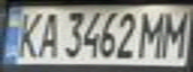2: (115, 8, 142, 60)
3: (60, 8, 84, 59)
4: (81, 8, 103, 59)
6: (100, 8, 124, 59)
A: (33, 9, 63, 60)
K: (12, 9, 45, 60)
M: (157, 7, 193, 58), (136, 8, 169, 59)
